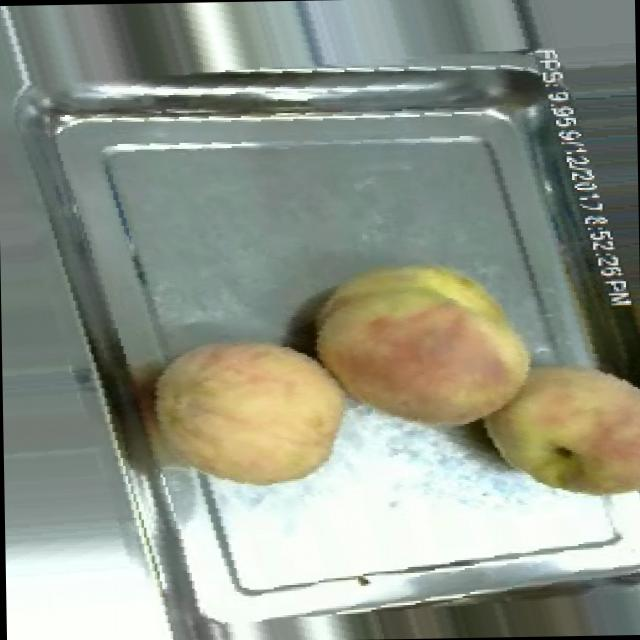Fruit: (296, 242, 546, 448), (129, 316, 365, 514), (469, 338, 640, 521)
